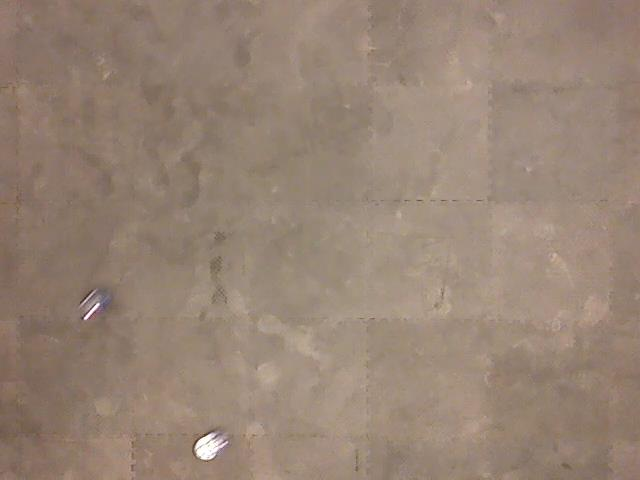Agent: (190, 427, 232, 464), (75, 285, 113, 324)
